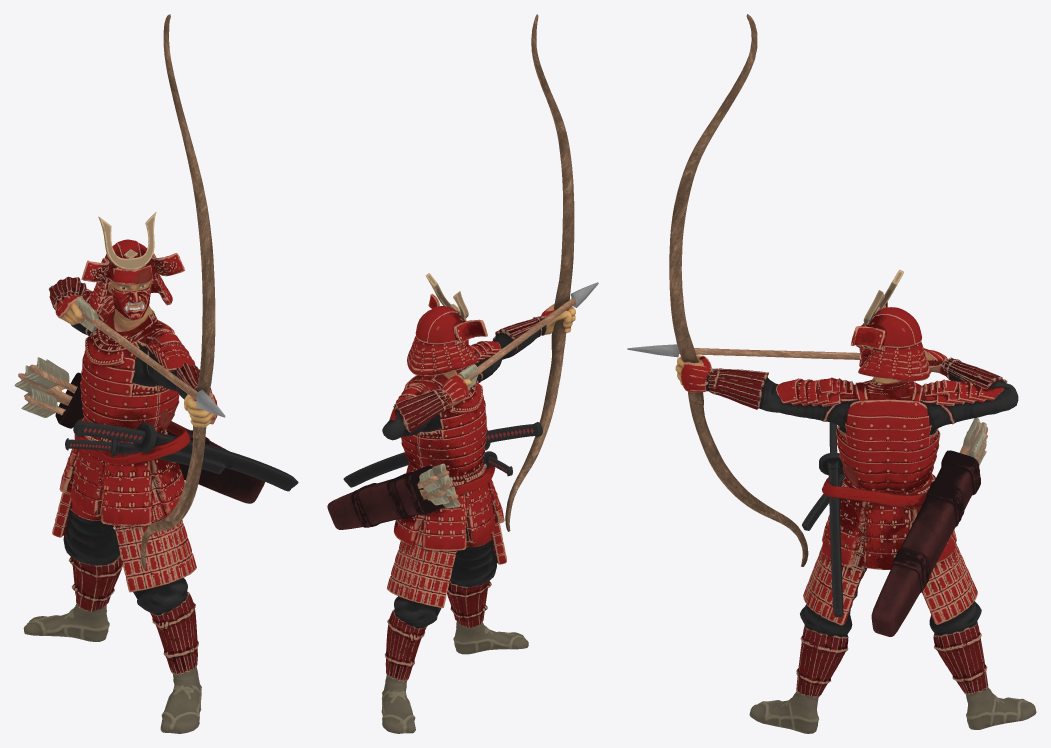
File: MZ4250 - Samurai Ranged.glb
The picture shows the model from 3 angles, left to right: view 1: azimuth 30°, elevation 25°; view 2: azimuth 150°, elevation 25°; view 3: azimuth 270°, elevation 25°; orthographic projection. The views are drawn at different scales.
Visible parts, largest first — view 1: Cube.004; view 2: Cube.004; view 3: Cube.004.
Part boxes in pixels (<box>): Cube.004: <box>14,14,298,733</box>; Cube.004: <box>327,14,598,733</box>; Cube.004: <box>627,14,1036,733</box>.
Size of the model in its own units: 1.89 by 5.85 by 3.13.
Materials: 8 (8 with a texture image).
